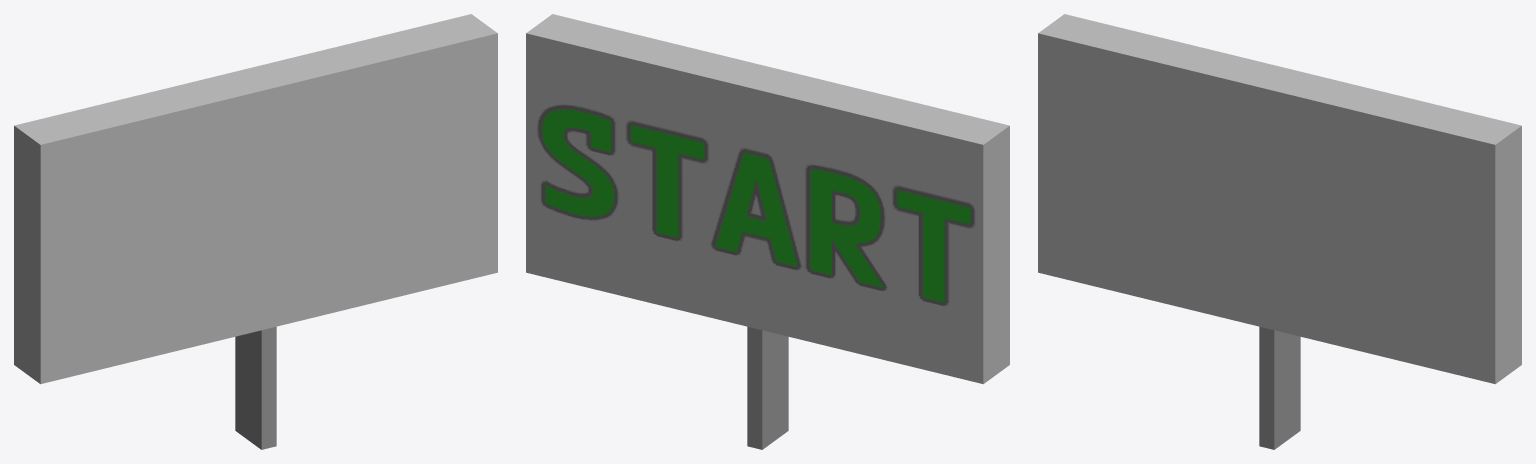
File: start.obj
3 renders of one model, left to right at view 1: azimuth 30°, elevation 25°; view 2: azimuth 150°, elevation 25°; view 3: azimuth 330°, elevation 25°, orthographic.
Parts seen in each view (by area): view 1: start; view 2: start; view 3: start.
Boxes of the visible parts, left/top/right/bottom form: start: left=14, top=14, right=497, bottom=449; start: left=526, top=14, right=1009, bottom=449; start: left=1038, top=14, right=1521, bottom=449.
Bounding box in the file's own units: 3 × 2.25 × 0.3.
1 material, 1 textured.
